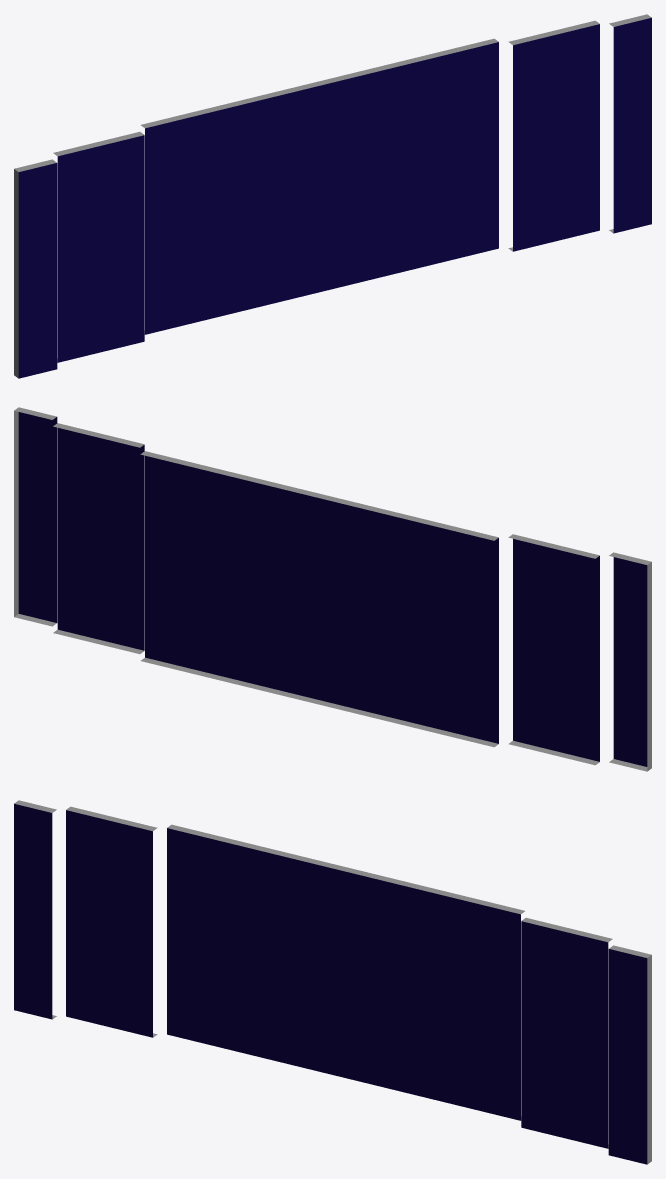
File: BallroomDisplay_001.FBX
3 renders of one model, top to bottom at view 1: azimuth 30°, elevation 25°; view 2: azimuth 150°, elevation 25°; view 3: azimuth 330°, elevation 25°, orthographic.
Parts seen in each view (by area): view 1: display_001; view 2: display_001; view 3: display_001.
Boxes of the visible parts, x1=… form: display_001: x1=14, y1=14, x2=651, y2=378; display_001: x1=14, y1=407, x2=651, y2=771; display_001: x1=14, y1=800, x2=651, y2=1164.
Size of the model in its own units: 341 by 106 by 16.81.
